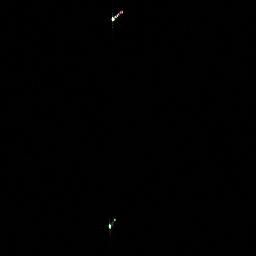ship: (109, 7, 126, 23), (105, 216, 118, 230)
